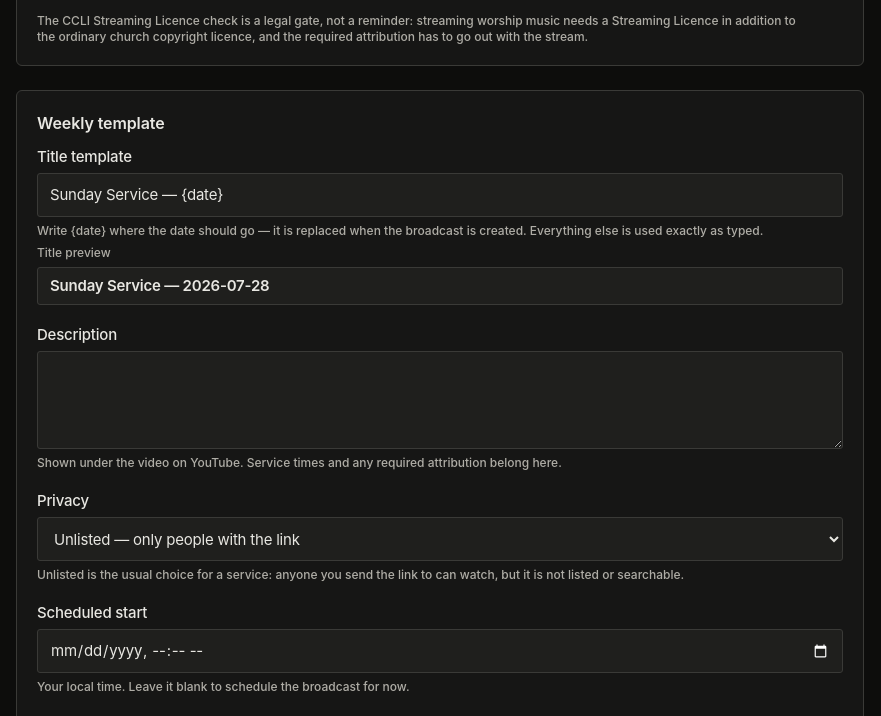
it: GoLiveSettings when signed in › saves the template through the bridge
(page scrolled)
In the text box labelled "Description": (440, 400) [37,351,843,449], type "Services at 11:00."
(page scrolled)
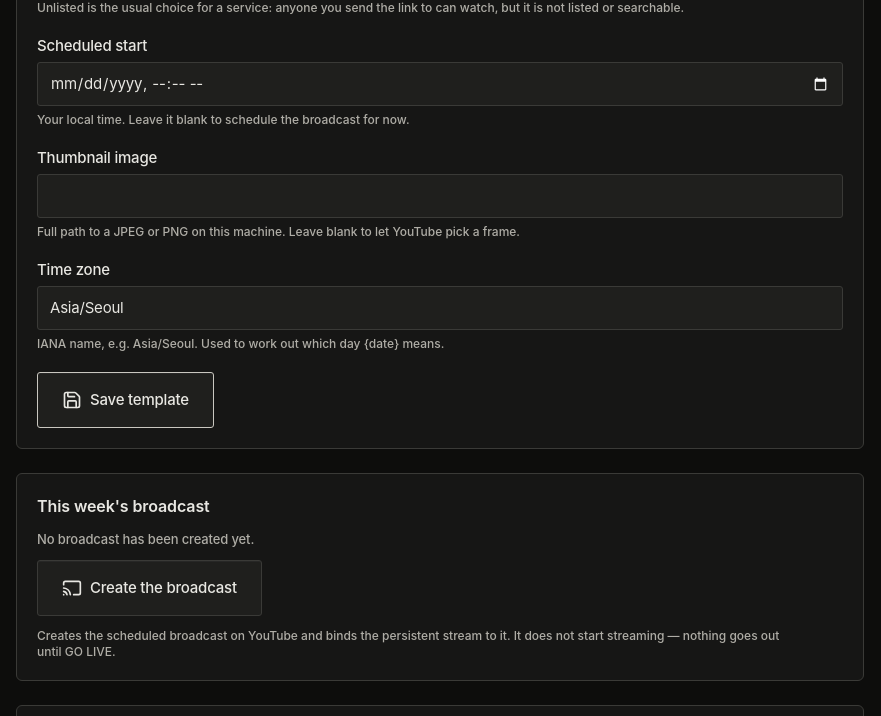
Click the button "Save template": (125, 400) [37,372,214,428]
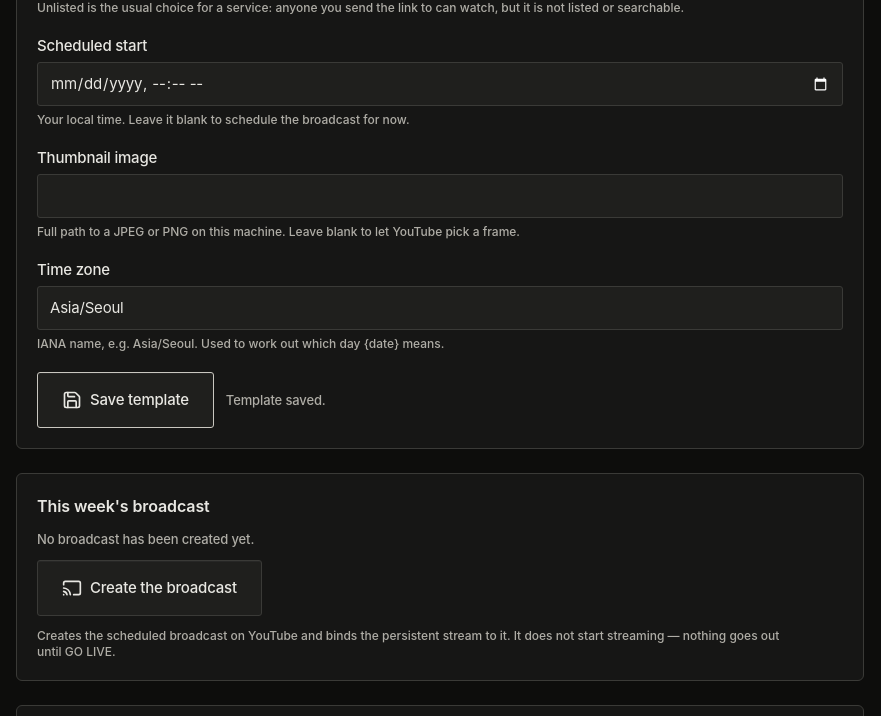
Check: the text "Template saved." is shown, box [226,391,326,409]
